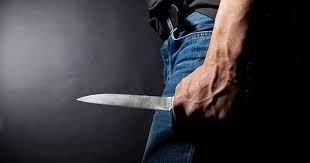Knife: (143, 0, 250, 163), (173, 64, 240, 124), (76, 93, 176, 110)
